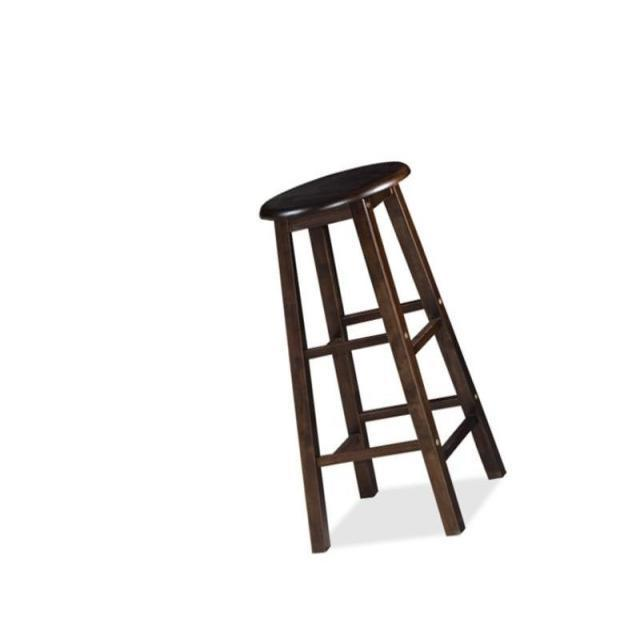chair: (258, 157, 507, 557)
